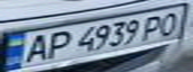3: (109, 19, 130, 51)
4: (75, 25, 96, 56)
9: (121, 16, 148, 47), (90, 21, 112, 54)
A: (15, 32, 54, 65)
O: (154, 10, 184, 38)
P: (39, 29, 75, 61), (136, 12, 169, 43)
